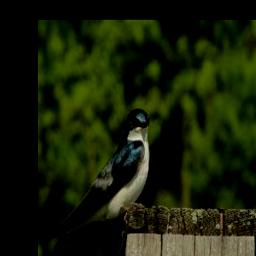Swallow: (48, 106, 151, 252)
